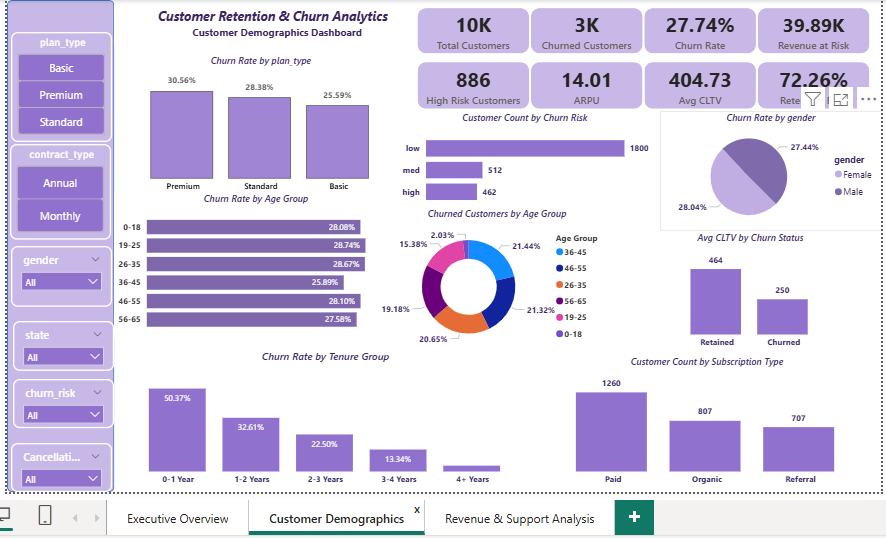

The dashboard page shown, as its layout file describes it:
{"tool":"powerbi","page":{"name":"Customer Demographics","canvas":[1280,720],"ordinal":1},"visuals":[{"type":"cardVisual","fields":{"Data":["exported_churn_data_NEW.High Risk Customers","exported_churn_data_NEW.ARPU","exported_churn_data_NEW.Avg CLTV","exported_churn_data_NEW.Retention Rate"]},"box":[583.9,79,695.1,92.2],"z":0},{"type":"lineClusteredColumnComboChart","fields":{"Category":["exported_churn_data_NEW.plan_type"],"Y":["exported_churn_data_NEW.Churn Rate"]},"box":[159.5,79,424.4,212.2],"z":1000},{"type":"barChart","title":"Customer Count by Churn Risk  ","fields":{"Category":["exported_churn_data_NEW.churn_risk"],"Y":["exported_churn_data_NEW.Churned Customers"]},"box":[572.2,162.4,371.7,149.3],"z":2000},{"type":"cardVisual","fields":{"Data":["exported_churn_data_NEW.Total Customers","exported_churn_data_NEW.Churned Customers","exported_churn_data_NEW.Churn Rate","exported_churn_data_NEW.Revenue at Risk"]},"box":[583.9,0,696.6,90.7],"z":3000},{"type":"shape","box":[0,0,157,720],"z":4000},{"type":"shape","box":[153.7,0,553.2,49.8],"z":5000},{"type":"textbox","box":[156.6,0,425.9,67.3],"z":6000},{"type":"pieChart","fields":{"Category":["exported_churn_data_NEW.gender"],"Y":["exported_churn_data_NEW.Churn Rate"]},"box":[955.6,162.4,324.9,175.6],"z":7000},{"type":"barChart","fields":{"Category":["exported_churn_data_NEW.Age Group"],"Y":["exported_churn_data_NEW.Churn Rate"]},"box":[156.6,281,415.6,213.7],"z":8000},{"type":"columnChart","title":"Churn Rate by Tenure Group","fields":{"Category":["exported_churn_data_NEW.Tenure Group"],"Y":["exported_churn_data_NEW.Churn Rate"]},"box":[159.5,510.7,613.2,209.3],"z":9000},{"type":"donutChart","title":"Churned Customers by Age Group","fields":{"Category":["exported_churn_data_NEW.Age Group"],"Y":["CountNonNull(exported_churn_data_NEW.customerid)"]},"box":[542.9,302.9,348.3,216.6],"z":10000},{"type":"advancedSlicerVisual","fields":{"Values":["exported_churn_data_NEW.plan_type"]},"box":[5.9,46.8,147.8,161],"z":11000},{"type":"advancedSlicerVisual","fields":{"Values":["exported_churn_data_NEW.contract_type"]},"box":[4.4,210.7,147.8,140.5],"z":12000},{"type":"slicer","fields":{"Values":["exported_churn_data_NEW.gender"]},"box":[5.9,360,147.8,89.3],"z":13000},{"type":"slicer","fields":{"Values":["exported_churn_data_NEW.state"]},"box":[8.8,469.8,147.8,73.2],"z":14000},{"type":"slicer","fields":{"Values":["exported_churn_data_NEW.churn_risk"]},"box":[8.8,554.6,147.8,71.7],"z":15000},{"type":"slicer","fields":{"Values":["exported_churn_data_NEW.Cancellation Year"]},"box":[5.9,648.3,147.8,71.7],"z":16000},{"type":"clusteredColumnChart","fields":{"Category":["exported_churn_data_NEW.Churn Status"],"Y":["exported_churn_data_NEW.Avg CLTV"]},"box":[907.3,338,361.5,181.5],"z":17000},{"type":"clusteredColumnChart","title":"Customer Count by Subscription Type","fields":{"Category":["exported_churn_data_NEW.subscription_type"],"Y":["exported_churn_data_NEW.Churned Customers"]},"box":[772.7,519.5,503.4,200.5],"z":18000}]}

Visuals, with their boxes on the page's 1280x720 design canvas (x1, y1, x2, y2). These are canvas units, not pixel positions in the 886x538 screenshot, which may show the page scaled, cropped or inside an application window:
cardVisual - exported_churn_data_NEW.High Risk Customers x exported_churn_data_NEW.ARPU: 584 79 1279 171
lineClusteredColumnComboChart - exported_churn_data_NEW.plan_type x exported_churn_data_NEW.Churn Rate: 160 79 584 291
"Customer Count by Churn Risk  " barChart: 572 162 944 312
cardVisual - exported_churn_data_NEW.Total Customers x exported_churn_data_NEW.Churned Customers: 584 0 1280 91
shape: 0 0 157 720
shape: 154 0 707 50
textbox: 157 0 582 67
pieChart - exported_churn_data_NEW.gender x exported_churn_data_NEW.Churn Rate: 956 162 1280 338
barChart - exported_churn_data_NEW.Age Group x exported_churn_data_NEW.Churn Rate: 157 281 572 495
"Churn Rate by Tenure Group" columnChart: 160 511 773 720
"Churned Customers by Age Group" donutChart: 543 303 891 520
advancedSlicerVisual - exported_churn_data_NEW.plan_type: 6 47 154 208
advancedSlicerVisual - exported_churn_data_NEW.contract_type: 4 211 152 351
slicer - exported_churn_data_NEW.gender: 6 360 154 449
slicer - exported_churn_data_NEW.state: 9 470 157 543
slicer - exported_churn_data_NEW.churn_risk: 9 555 157 626
slicer - exported_churn_data_NEW.Cancellation Year: 6 648 154 720
clusteredColumnChart - exported_churn_data_NEW.Churn Status x exported_churn_data_NEW.Avg CLTV: 907 338 1269 520
"Customer Count by Subscription Type" clusteredColumnChart: 773 520 1276 720
